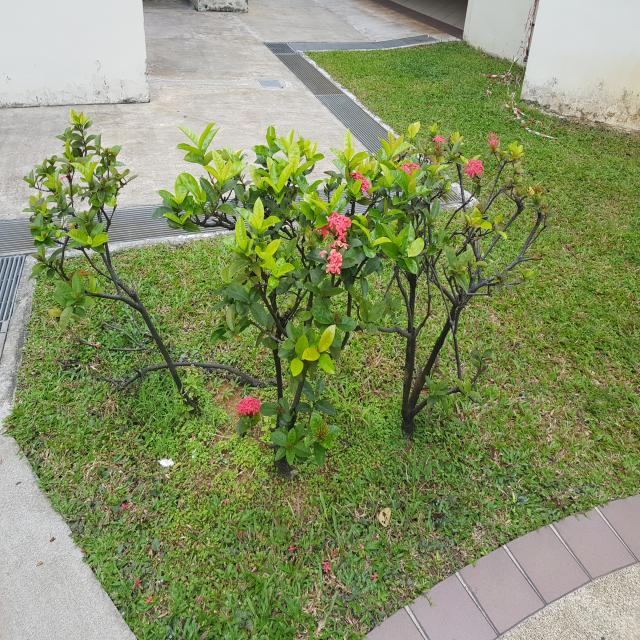Chinese-Ixora: (316, 211, 352, 276), (348, 166, 372, 198), (396, 163, 425, 184), (236, 397, 261, 417), (463, 158, 485, 179), (486, 131, 500, 150), (432, 136, 445, 150)
